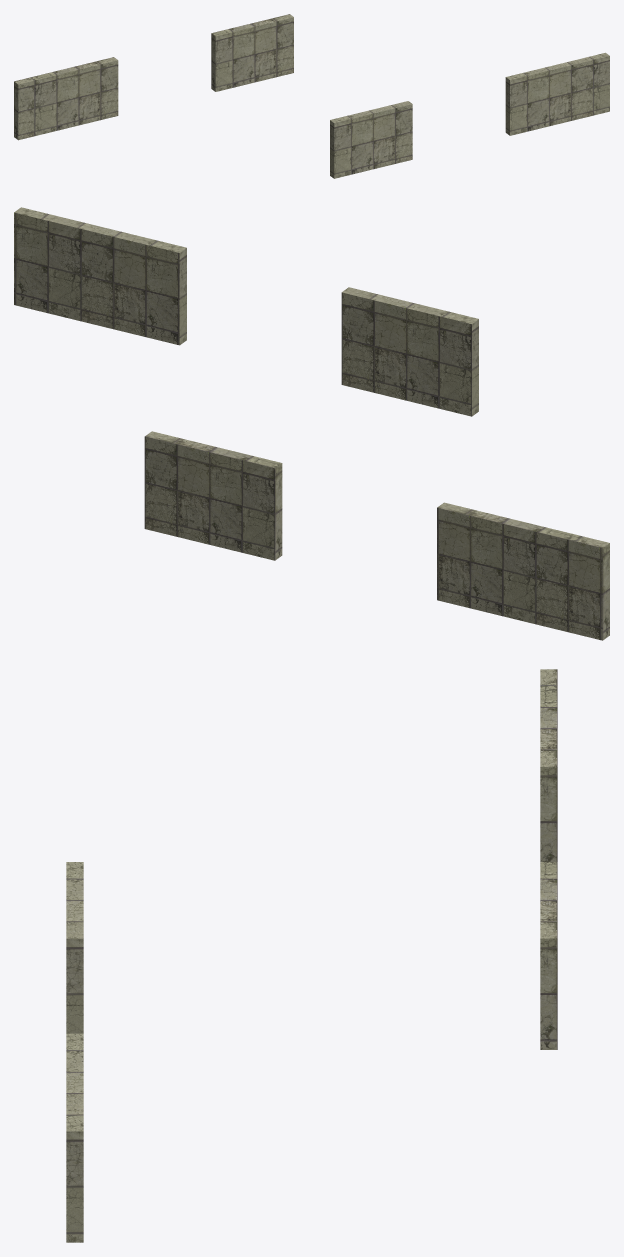
File: SM_NeoLD_05_Block_03.fbx
3 views of the same model, one above another, from view 1: azimuth 30°, elevation 25°; view 2: azimuth 150°, elevation 25°; view 3: azimuth 270°, elevation 25° (orthographic). The views are drawn at different scales.
Parts seen in each view (by area): view 1: SM_NeoLD_05_Block_03; view 2: SM_NeoLD_05_Block_03; view 3: SM_NeoLD_05_Block_03.
Boxes of the visible parts, x1,y1,x2,y2 form: SM_NeoLD_05_Block_03: (14, 14, 609, 178); SM_NeoLD_05_Block_03: (14, 207, 609, 640); SM_NeoLD_05_Block_03: (66, 669, 557, 1242).
Size of the model in its own units: 2658 by 299 by 1196.
